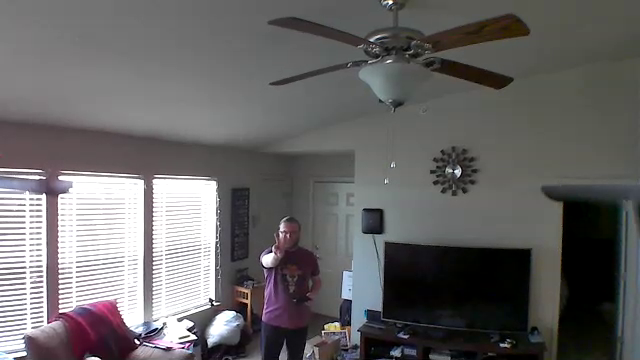peace: (270, 226, 289, 262)
